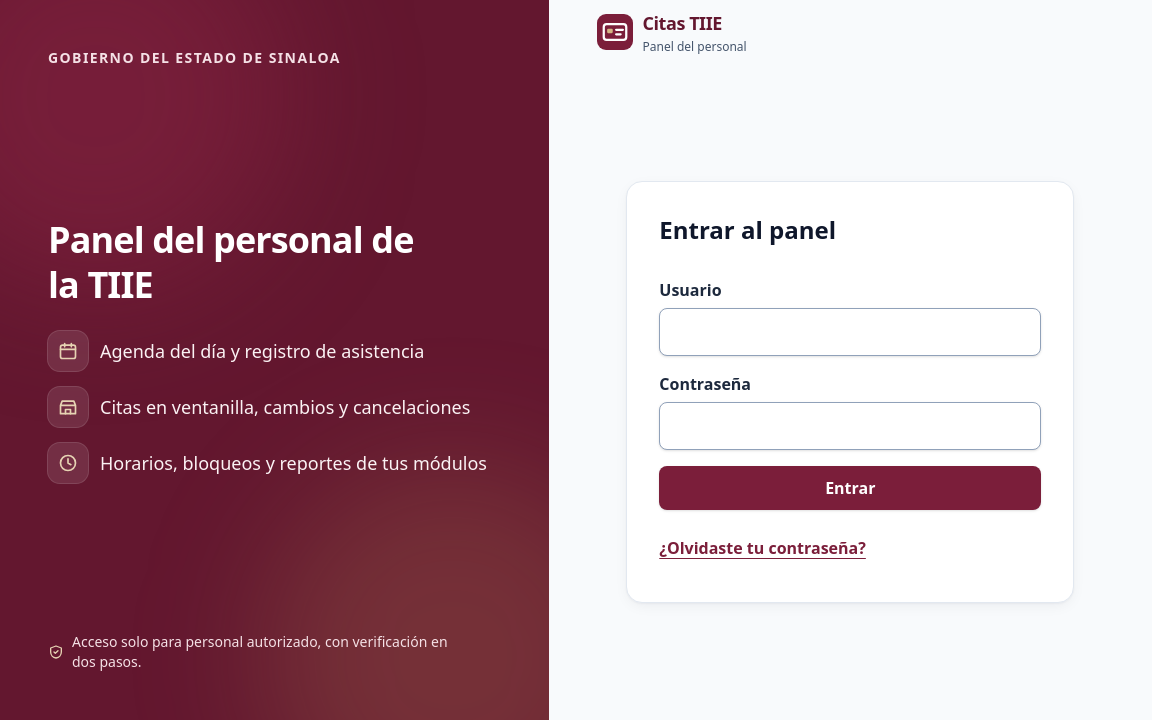
Test case: Entrar al panel › con CredencialesInvalidas avisa y no avanza
The image size is (1152, 720).
In the field labelled "Usuario": {"x": 850, "y": 332} x1=659 y1=308 x2=1041 y2=356, type "capturista"
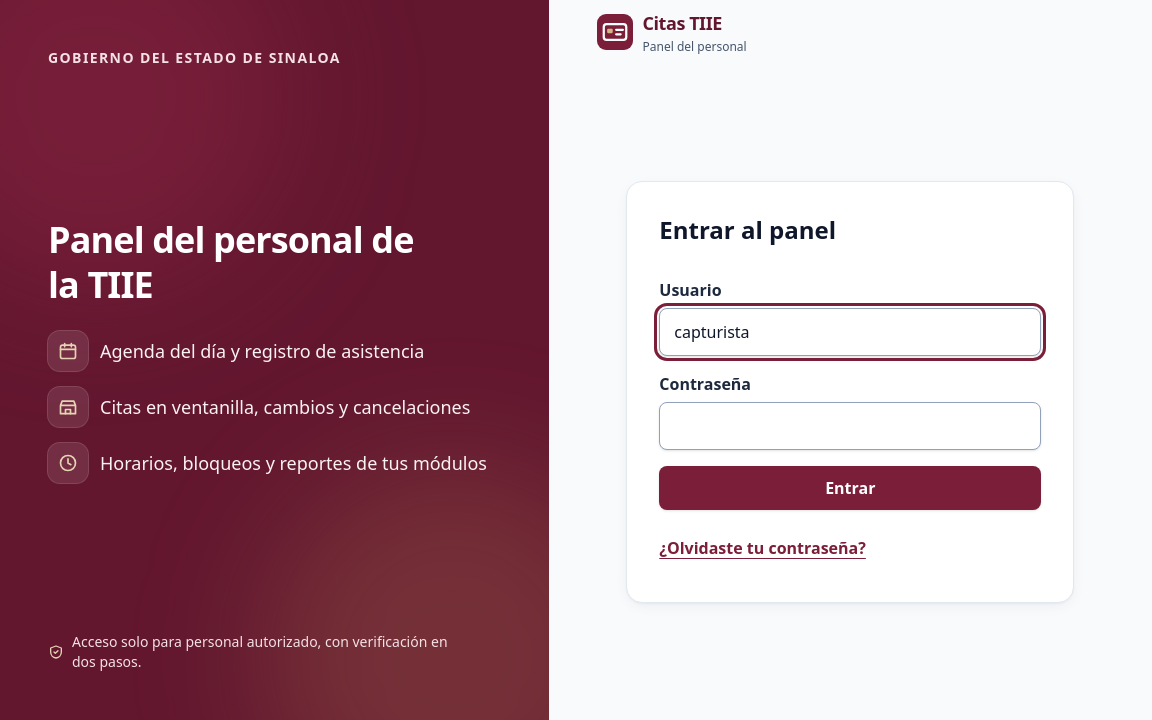
In the password field labelled "Contraseña": {"x": 850, "y": 426} x1=659 y1=402 x2=1041 y2=450, type "una frase larga y segura"
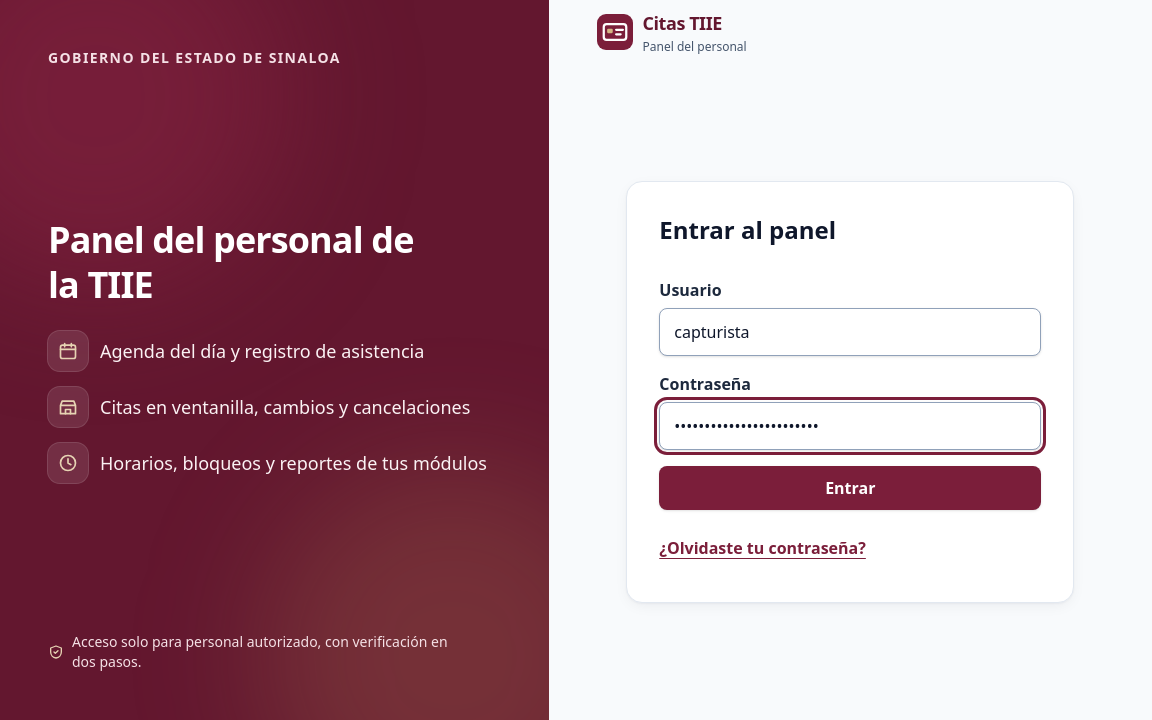
Click the button "Entrar": {"x": 850, "y": 488} x1=659 y1=466 x2=1041 y2=510
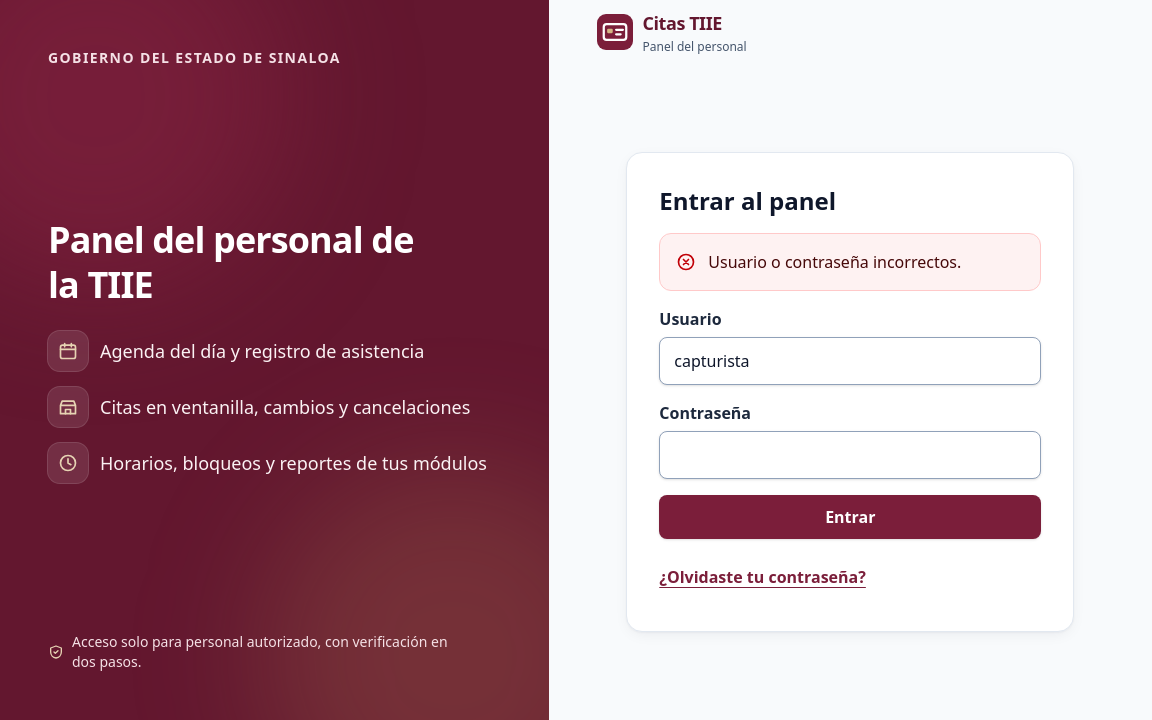
Expected: the text "Usuario o contraseña incorrectos." is shown, x1=708 y1=251 x2=961 y2=273
Expected: the password field labelled "Contraseña" is empty, x1=659 y1=431 x2=1041 y2=479
